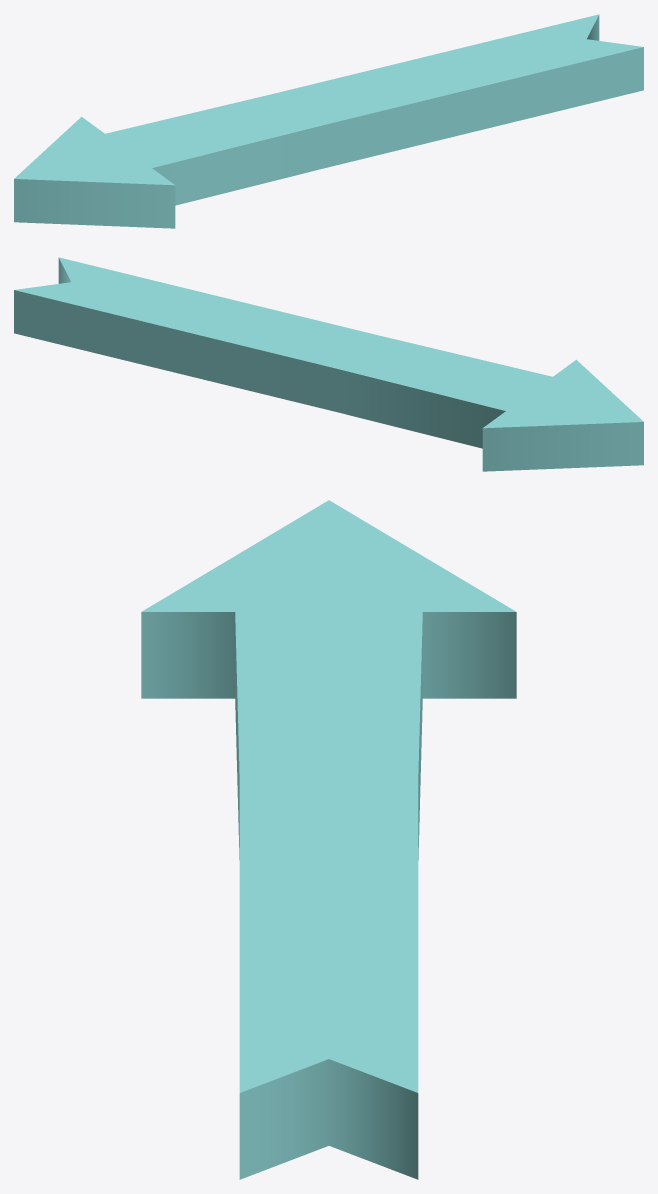
The model's file is arrow.fbx.
The picture shows the model from 3 angles, top to bottom: view 1: azimuth 30°, elevation 25°; view 2: azimuth 150°, elevation 25°; view 3: azimuth 270°, elevation 25°; orthographic projection. The views are drawn at different scales.
Parts seen in each view (by area): view 1: pCube133; view 2: pCube133; view 3: pCube133.
Part boxes in pixels (bbox=[...]): pCube133: bbox=[14, 14, 643, 228]; pCube133: bbox=[14, 257, 643, 471]; pCube133: bbox=[141, 500, 516, 1179].
Bounding box in the file's own units: 6.05 × 0.4124 × 1.62.
